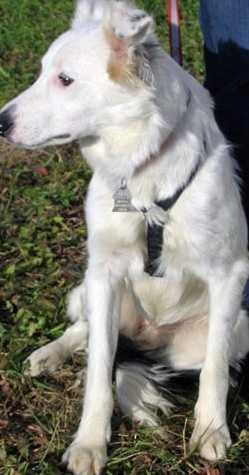dog: (3, 14, 237, 454)
